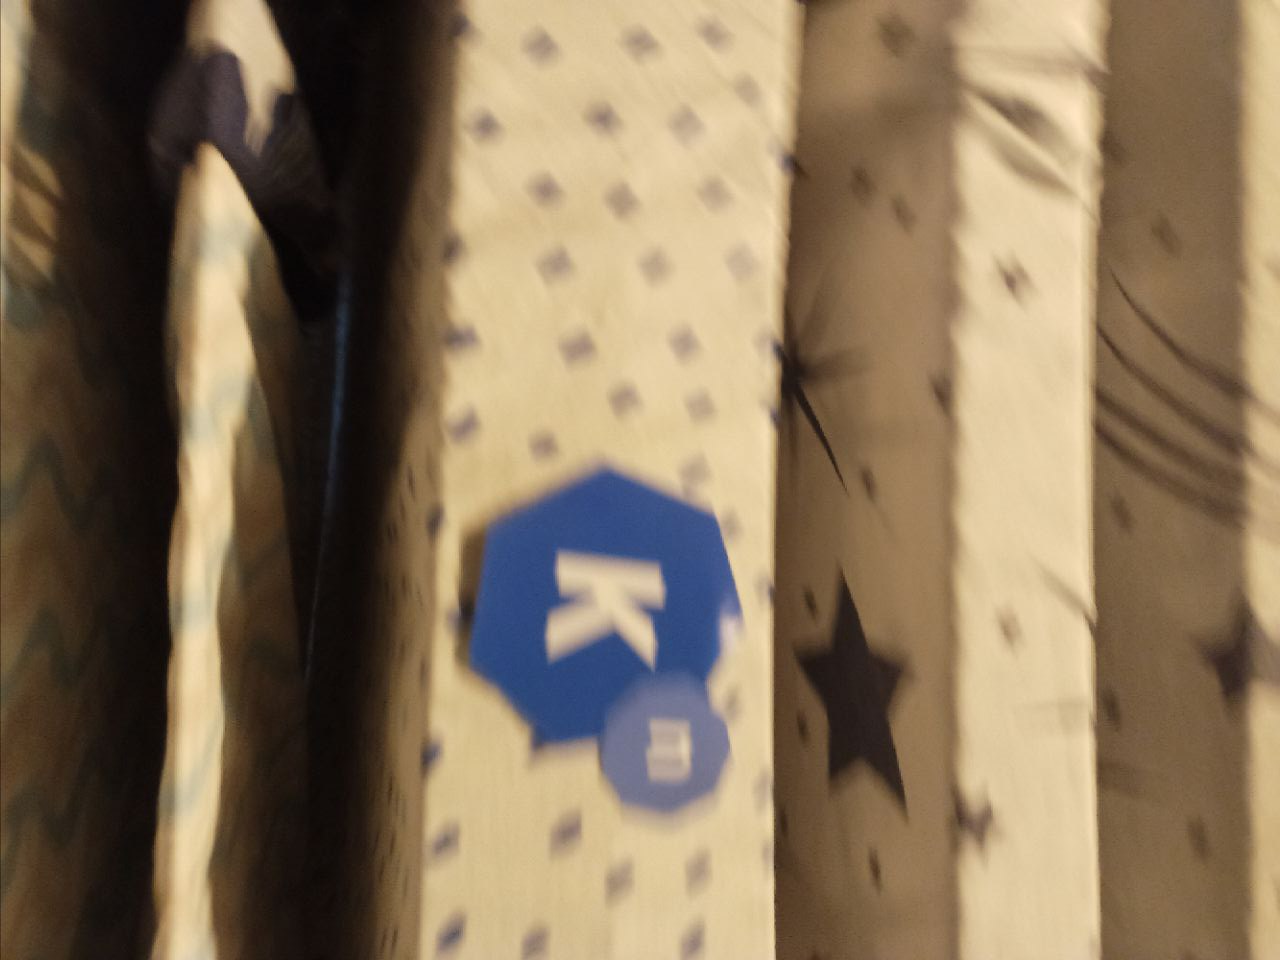knative: (460, 466, 749, 815)
